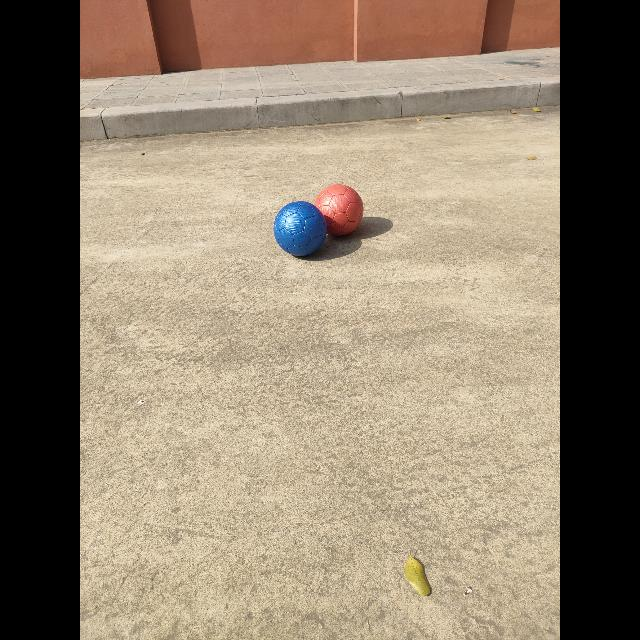B: (274, 201, 328, 256)
R: (314, 184, 364, 235)
